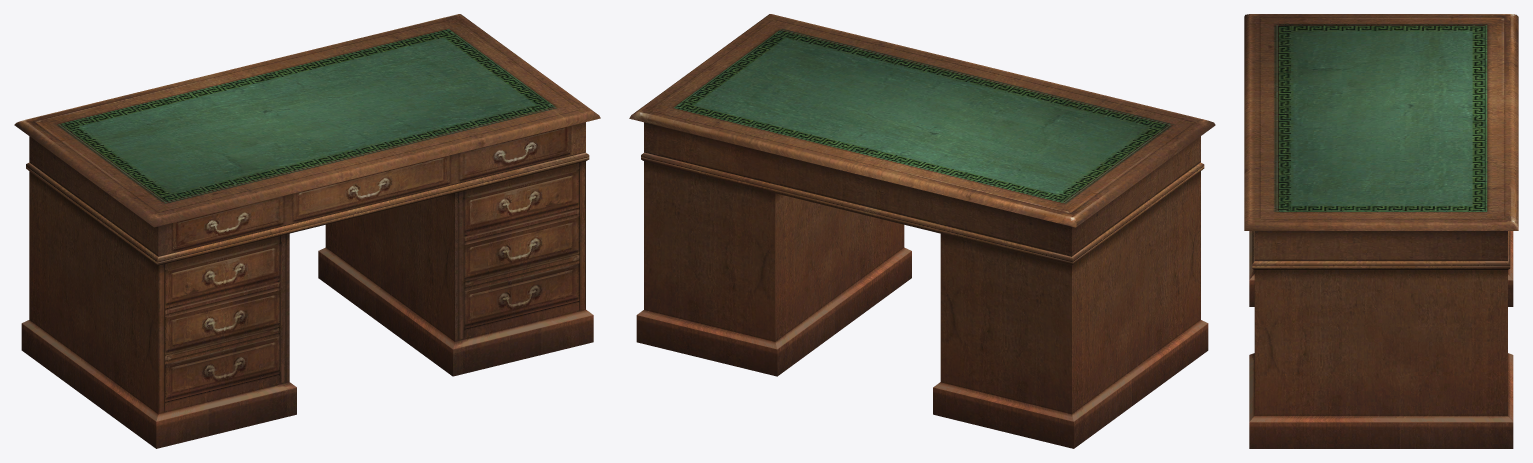
The model's file is desk1.fbx.
The picture shows the model from 3 angles, left to right: view 1: azimuth 30°, elevation 25°; view 2: azimuth 150°, elevation 25°; view 3: azimuth 270°, elevation 25°; orthographic projection.
Parts seen in each view (by area): view 1: table_a; view 2: table_a; view 3: table_a.
Boxes of the visible parts, left/top/right/bottom form: table_a: left=14, top=14, right=600, bottom=448; table_a: left=629, top=14, right=1215, bottom=448; table_a: left=1244, top=14, right=1518, bottom=448.
Bounding box in the file's own units: 130 × 63.82 × 70.31.
